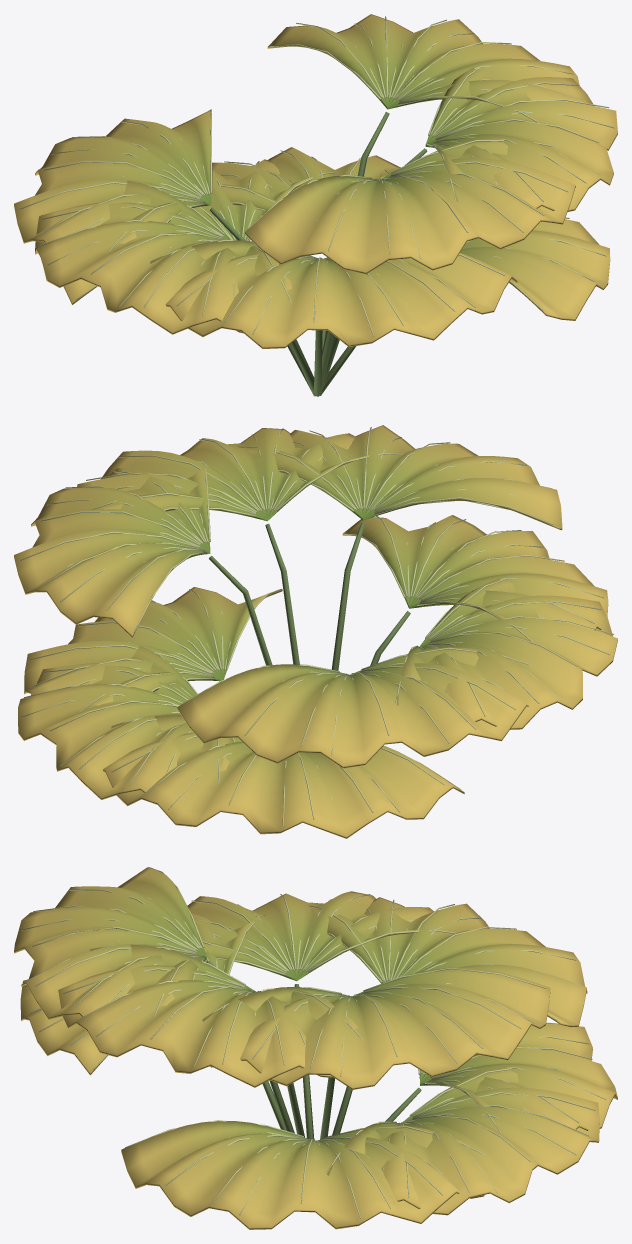
Rendered from enchanted-ginkgo.glb.
3 renders of one model, top to bottom at view 1: azimuth 30°, elevation 25°; view 2: azimuth 150°, elevation 25°; view 3: azimuth 270°, elevation 25°, orthographic.
Visible parts, largest first — view 1: enchanted-ginkgo-sculpted-details; view 2: enchanted-ginkgo-sculpted-details; view 3: enchanted-ginkgo-sculpted-details.
Part boxes in pixels (x1,y1,x2,y2): enchanted-ginkgo-sculpted-details: [14, 14, 617, 396]; enchanted-ginkgo-sculpted-details: [14, 425, 617, 838]; enchanted-ginkgo-sculpted-details: [14, 867, 617, 1229].
Bounding box in the file's own units: 1.92 × 1 × 1.93.
